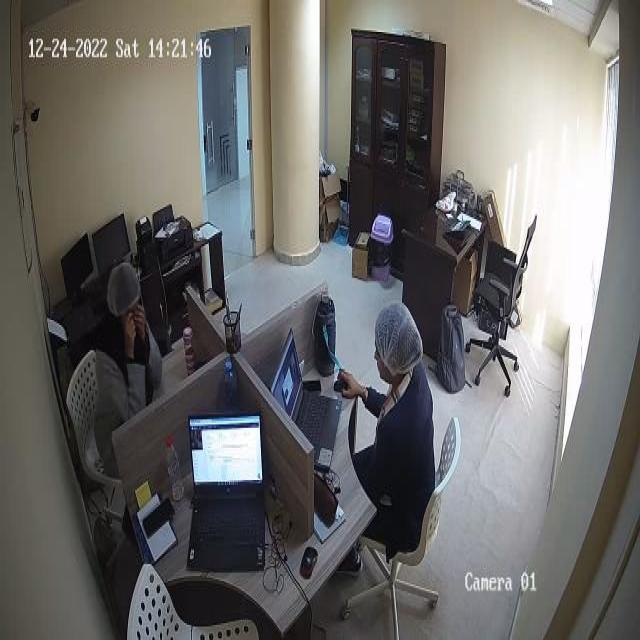hairnet: (376, 303, 420, 371), (108, 264, 139, 308)
